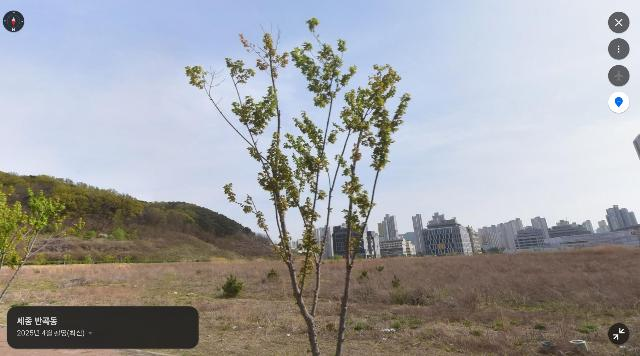other: (184, 16, 411, 356), (0, 184, 86, 305)
